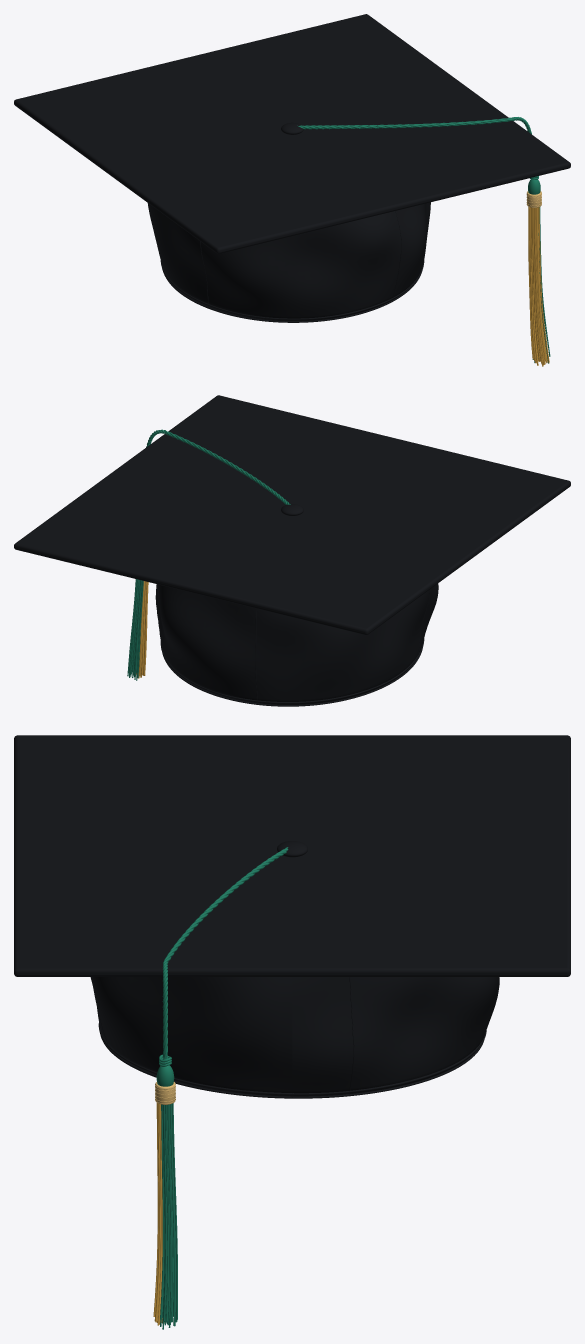
The model's file is graduation-cap-green-gold.glb.
3 renders of one model, top to bottom at view 1: azimuth 30°, elevation 25°; view 2: azimuth 150°, elevation 25°; view 3: azimuth 270°, elevation 25°, orthographic. The views are drawn at different scales.
Parts seen in each view (by area): view 1: Cap_Top, Cap_Body, Tassel_Bundle, Cap_Hem, Tassel_Cord; view 2: Cap_Top, Cap_Body, Tassel_Bundle, Cap_Hem, Tassel_Cord; view 3: Cap_Top, Cap_Body, Tassel_Bundle, Cap_Hem, Tassel_Cord.
Boxes of the visible parts, bbox=[...] form: Cap_Top: bbox=[14, 14, 570, 253]; Cap_Body: bbox=[147, 202, 430, 321]; Tassel_Bundle: bbox=[528, 207, 550, 366]; Cap_Hem: bbox=[160, 260, 424, 322]; Tassel_Cord: bbox=[297, 117, 531, 134]; Cap_Top: bbox=[14, 395, 570, 634]; Cap_Body: bbox=[155, 583, 438, 704]; Tassel_Bundle: bbox=[127, 579, 148, 680]; Cap_Hem: bbox=[160, 638, 424, 706]; Tassel_Cord: bbox=[146, 429, 290, 504]; Cap_Top: bbox=[14, 735, 570, 976]; Cap_Body: bbox=[90, 977, 499, 1096]; Tassel_Bundle: bbox=[153, 1103, 177, 1329]; Cap_Hem: bbox=[98, 1023, 486, 1098]; Tassel_Cord: bbox=[162, 847, 288, 1059].
Bounding box in the file's own units: 0.312 × 0.1962 × 0.285.
